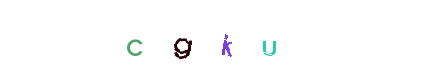C: (142, 0, 222, 80)
G: (154, 0, 234, 80)
K: (175, 0, 255, 80)
U: (186, 0, 266, 80)
